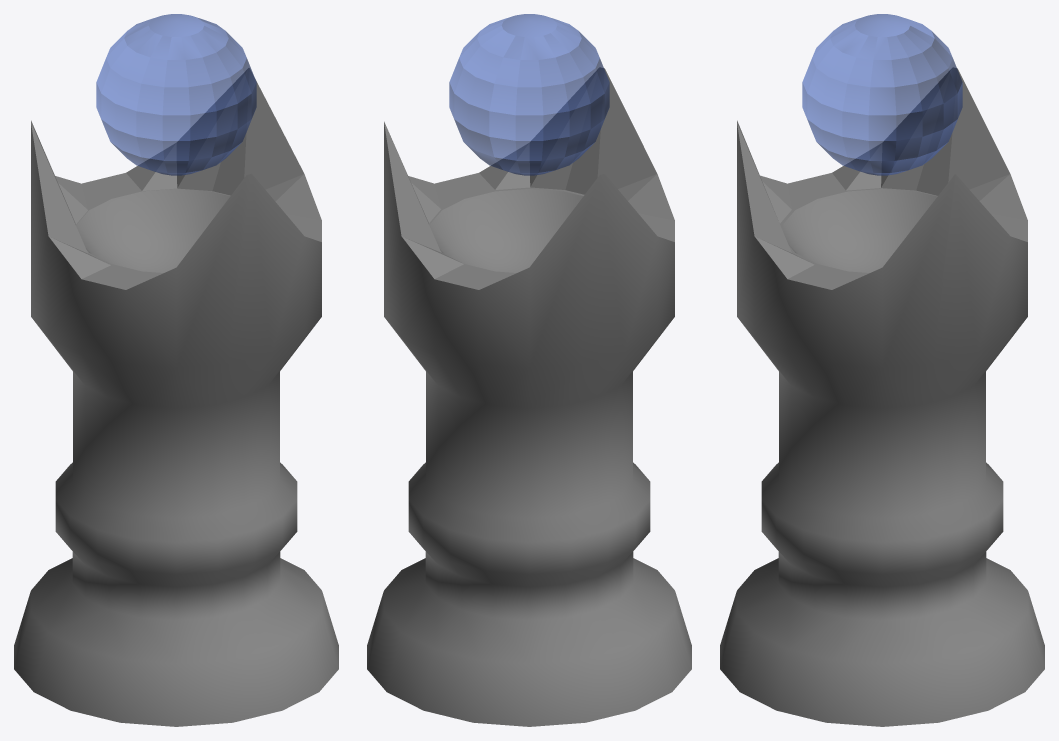
Rendered from Cryo.glb.
3 views of the same model, side by side, from view 1: azimuth 30°, elevation 25°; view 2: azimuth 150°, elevation 25°; view 3: azimuth 270°, elevation 25° (orthographic).
Parts seen in each view (by area): view 1: Cylinder001, Sphere001; view 2: Cylinder001, Sphere001; view 3: Cylinder001, Sphere001.
Part boxes in pixels (x1,y1,x2,y2): Cylinder001: [14, 68, 338, 726]; Sphere001: [96, 14, 256, 175]; Cylinder001: [367, 67, 691, 726]; Sphere001: [449, 14, 609, 175]; Cylinder001: [720, 67, 1044, 726]; Sphere001: [802, 14, 962, 175].
Bounding box in the file's own units: 22.31 × 47.5 × 21.97.
